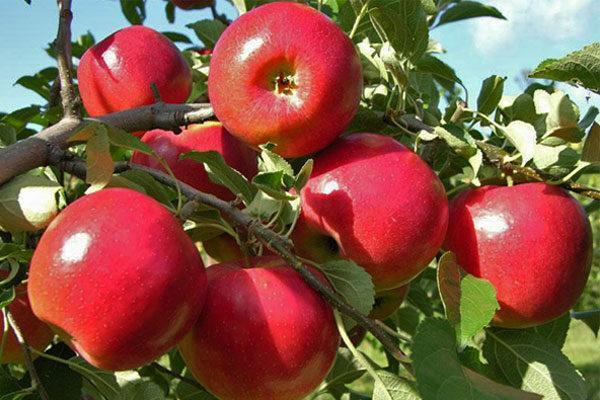apple: (28, 191, 204, 367), (290, 130, 449, 295), (204, 1, 363, 158), (181, 261, 332, 394), (450, 183, 591, 324), (77, 25, 191, 118)
